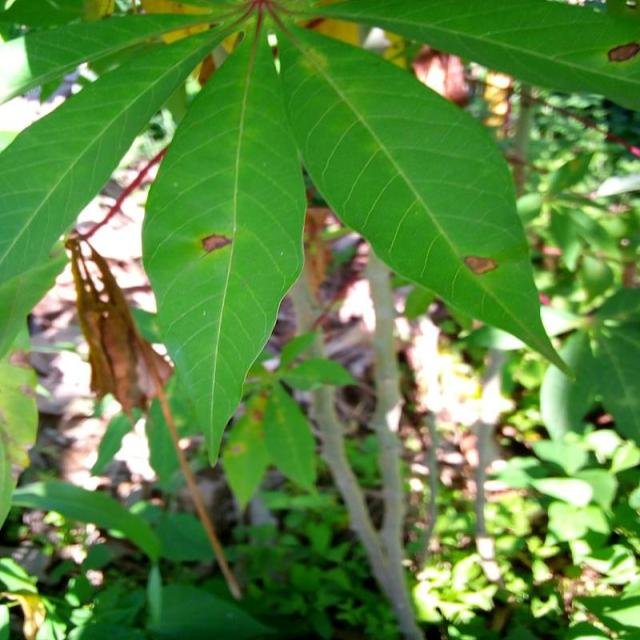cassava leaf: (271, 13, 575, 380), (140, 11, 308, 467)
